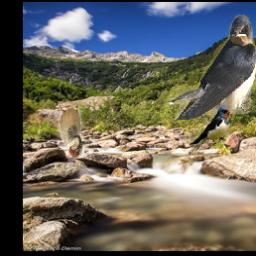Sparrow: (59, 101, 85, 158)
Swallow: (164, 15, 256, 120), (183, 105, 231, 164)
